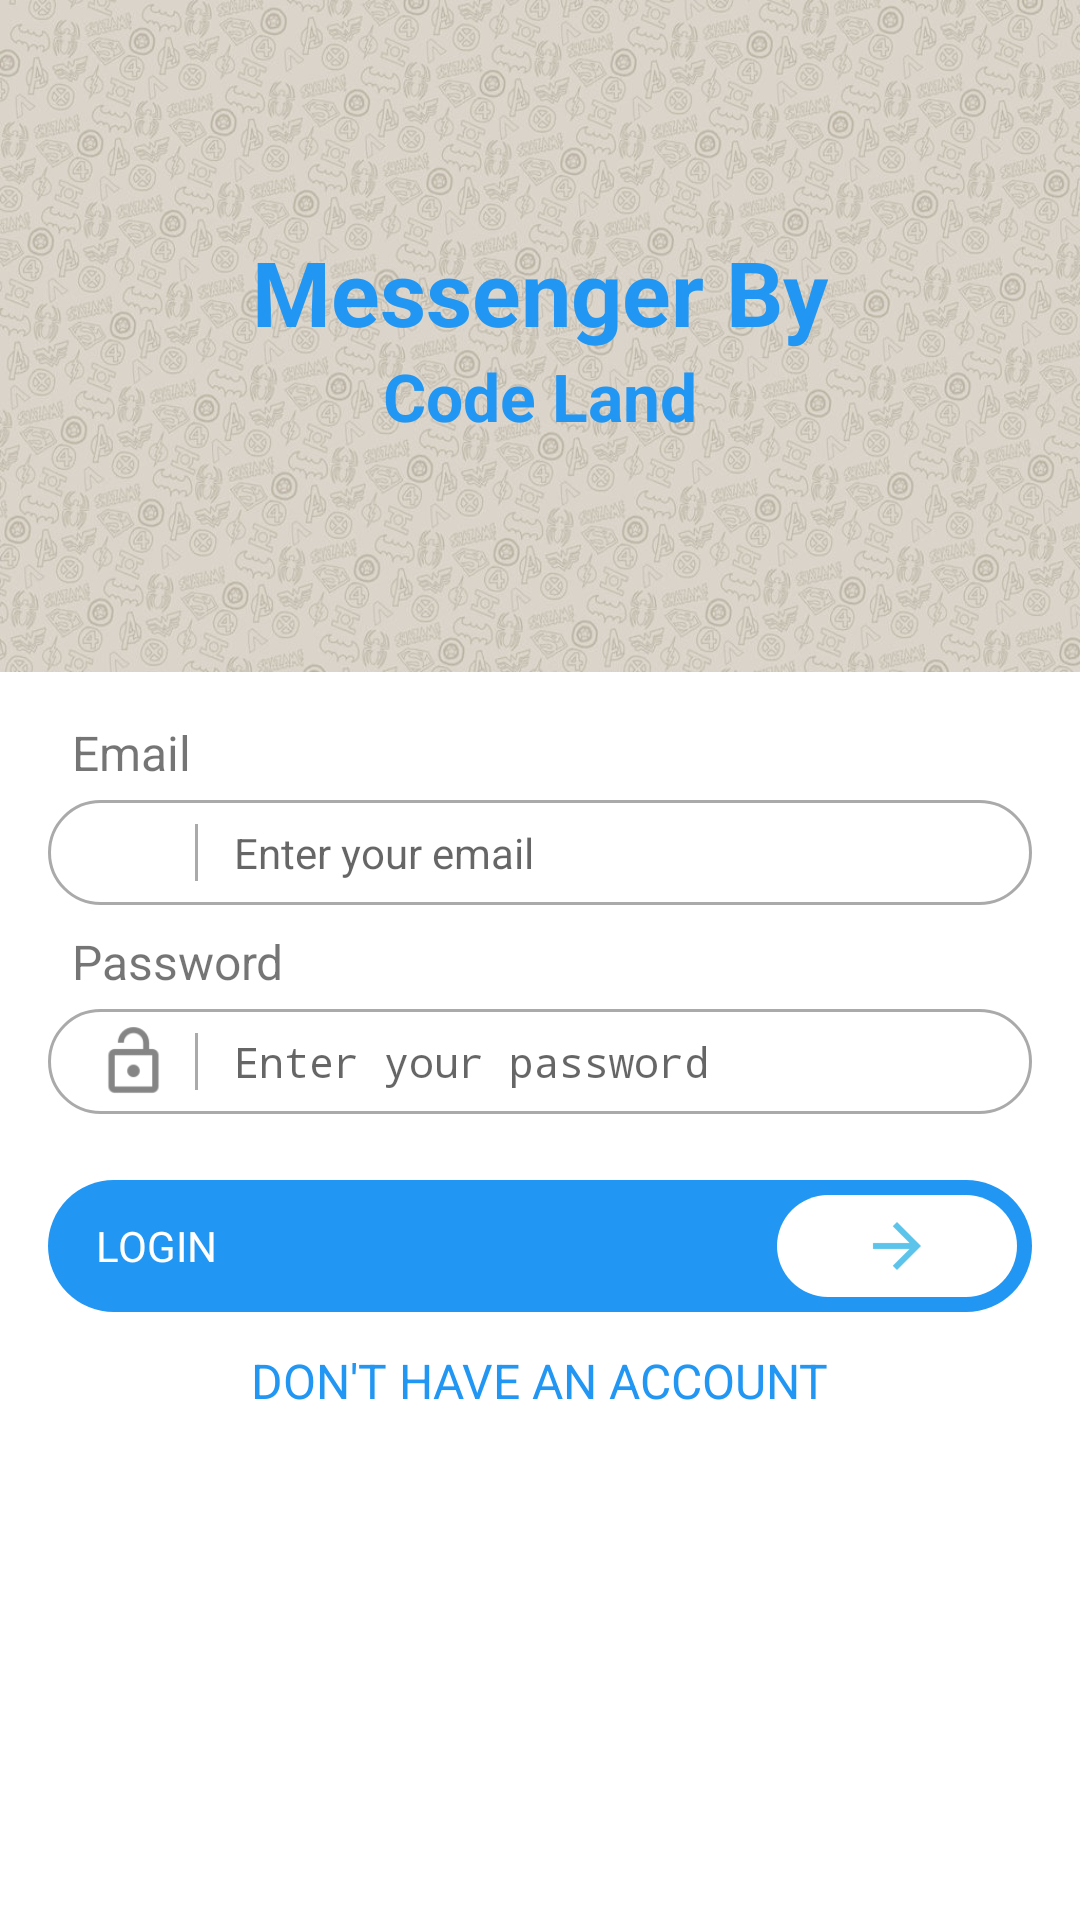

Point at icon controls on the screen. Image size 1080px x 1920px, points as (x,y).
login: (897,1246)
